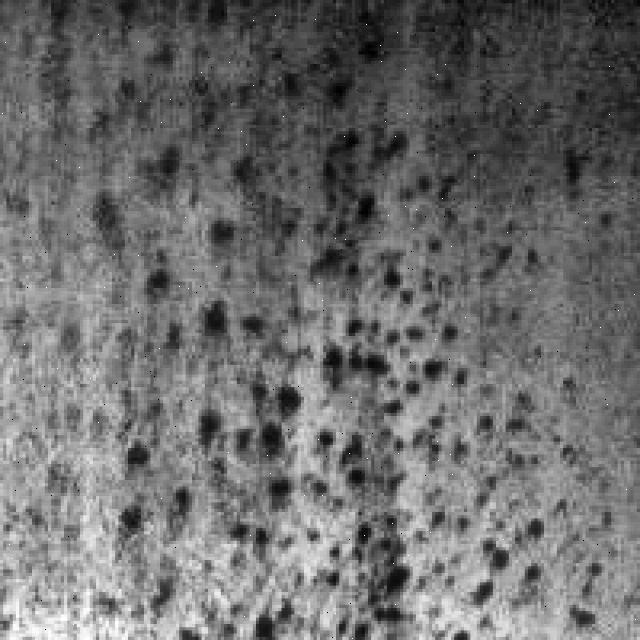Rolled_in_Scale: (106, 16, 598, 634)
